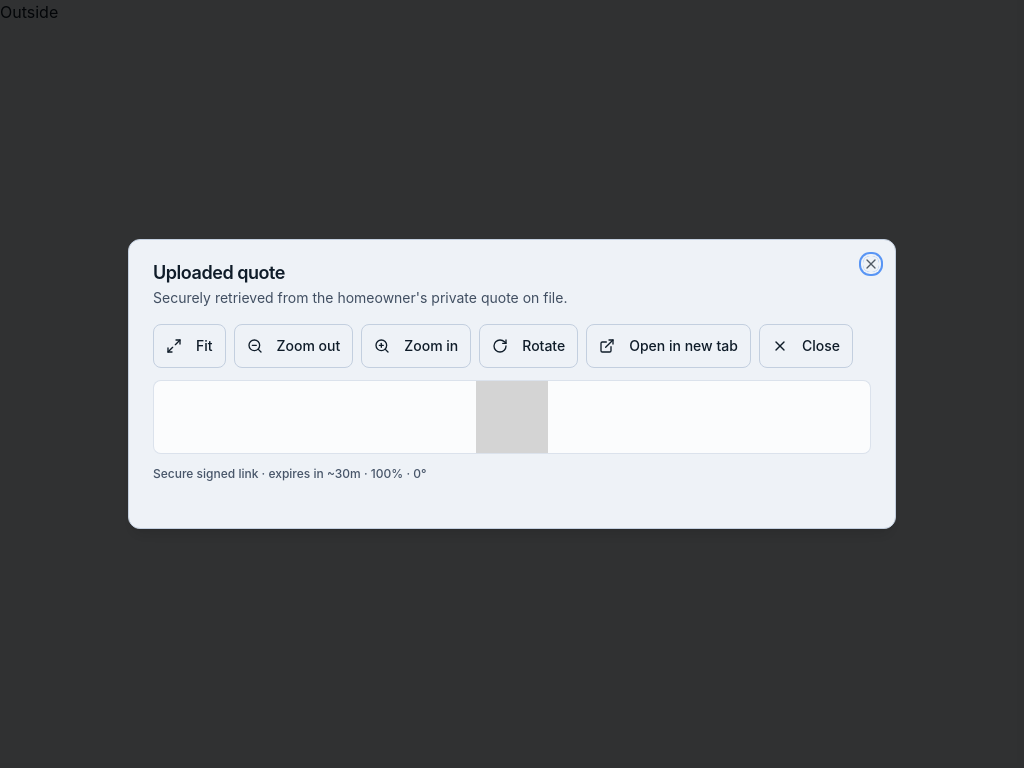
it: QuoteViewerModal › renders an image with zoom, rotate, fit, and open-in-new-tab controls
This screenshot has width=1024, height=768.
Later steps or results of the test are not shown.
Step 1. Click the button with aria-label "Zoom in quote" → (416, 346), box [361, 324, 471, 368]
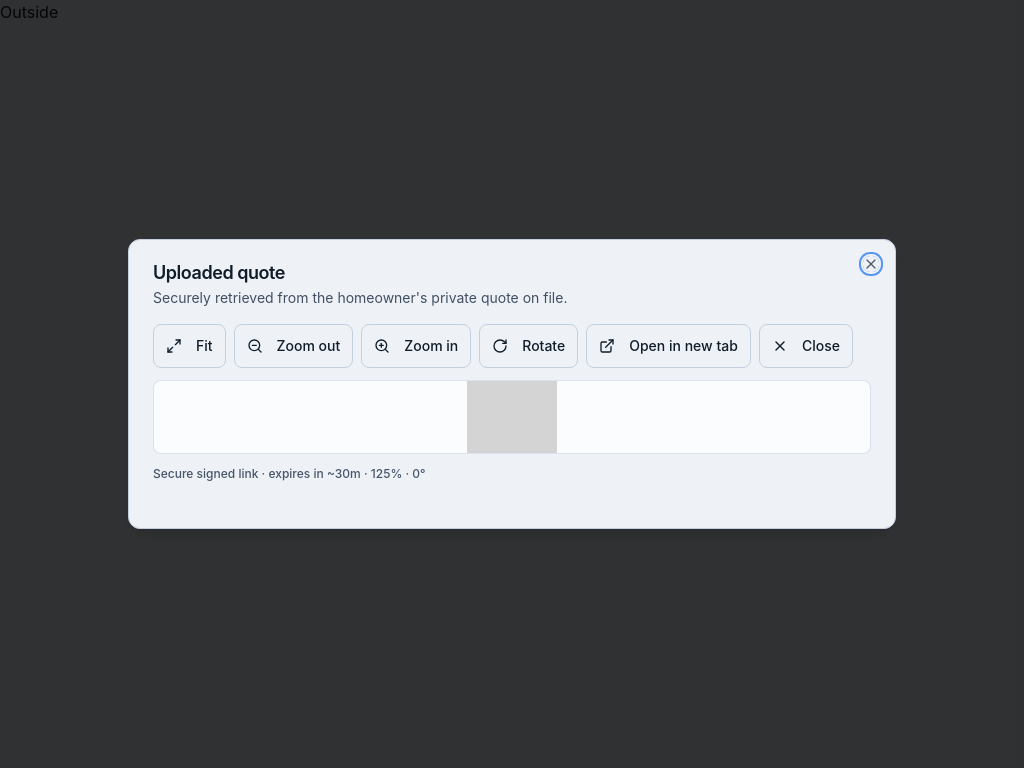
Check: the picture with test id "quote-viewer-image" has attribute data-zoom="1.25", box [467, 381, 557, 453]
